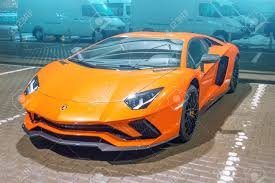Lamborghini: (23, 31, 231, 145)
